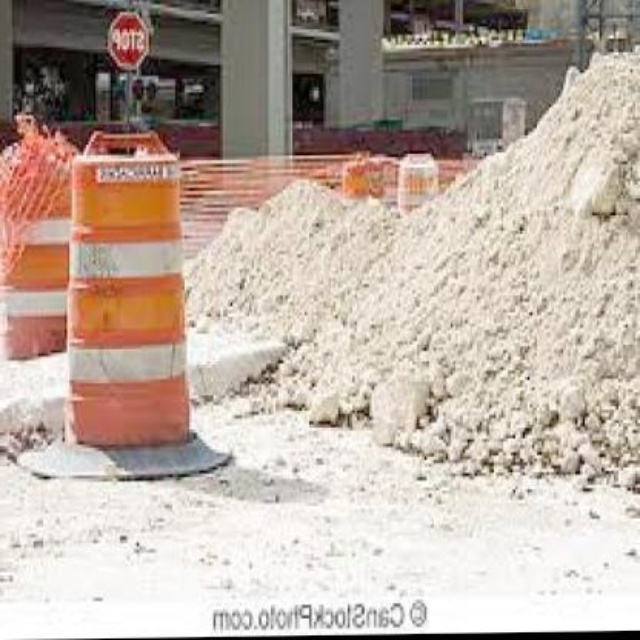obstacle: (60, 131, 187, 462)
